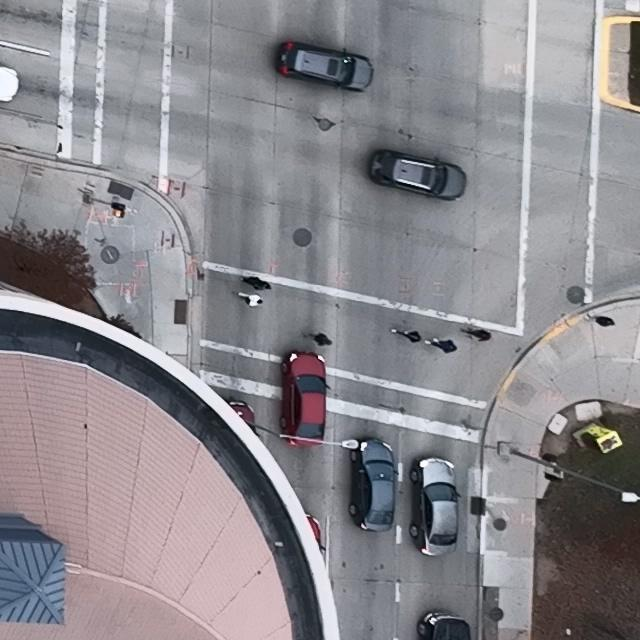car: (410, 456, 462, 556), (369, 148, 466, 200), (276, 42, 375, 92), (279, 351, 331, 446), (348, 437, 399, 531), (417, 611, 472, 640), (0, 65, 20, 101)
